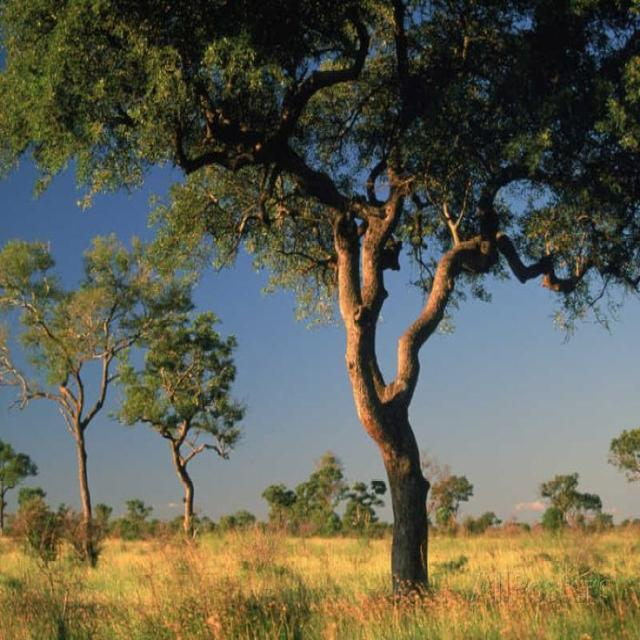Acacia: (270, 18, 625, 570), (11, 248, 214, 530)
